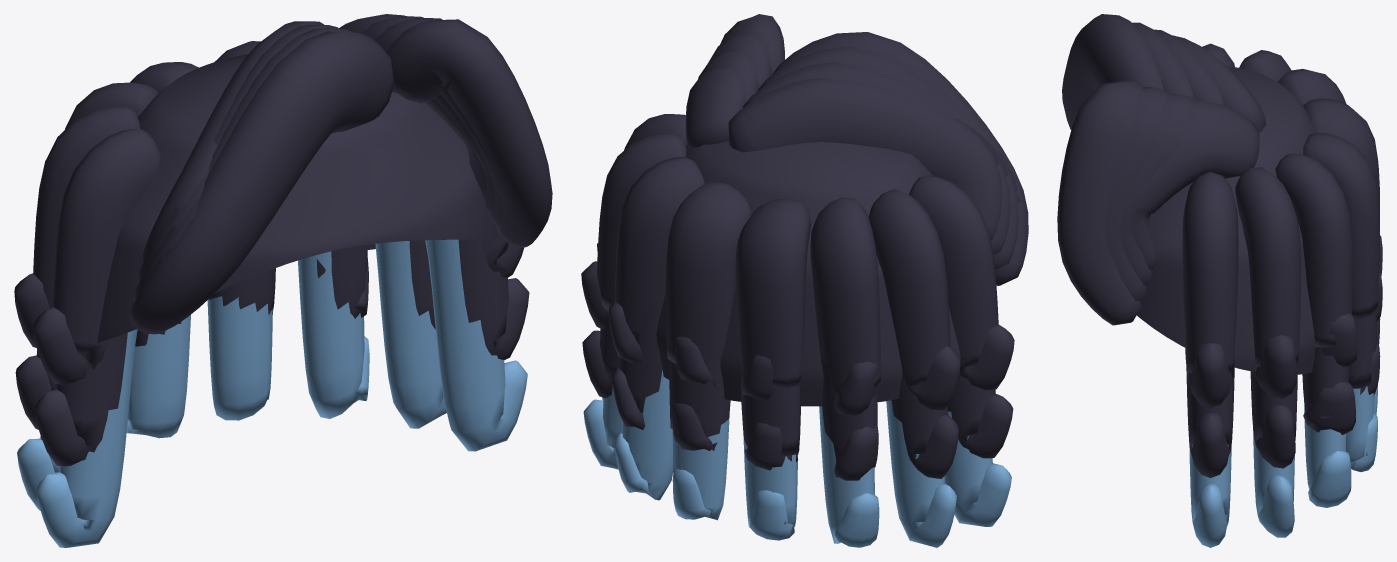
File: studio_layered_medium.glb
The picture shows the model from 3 angles, left to right: view 1: azimuth 30°, elevation 25°; view 2: azimuth 150°, elevation 25°; view 3: azimuth 270°, elevation 25°; orthographic projection. The views are drawn at different scales.
Parts seen in each view (by area): view 1: layered; view 2: layered; view 3: layered.
Part boxes in pixels (x1,y1,x2,y2): layered: (14,14,552,547); layered: (581,14,1028,547); layered: (1057,14,1382,547).
Bounding box in the file's own units: 0.5978 × 0.5788 × 0.396.
